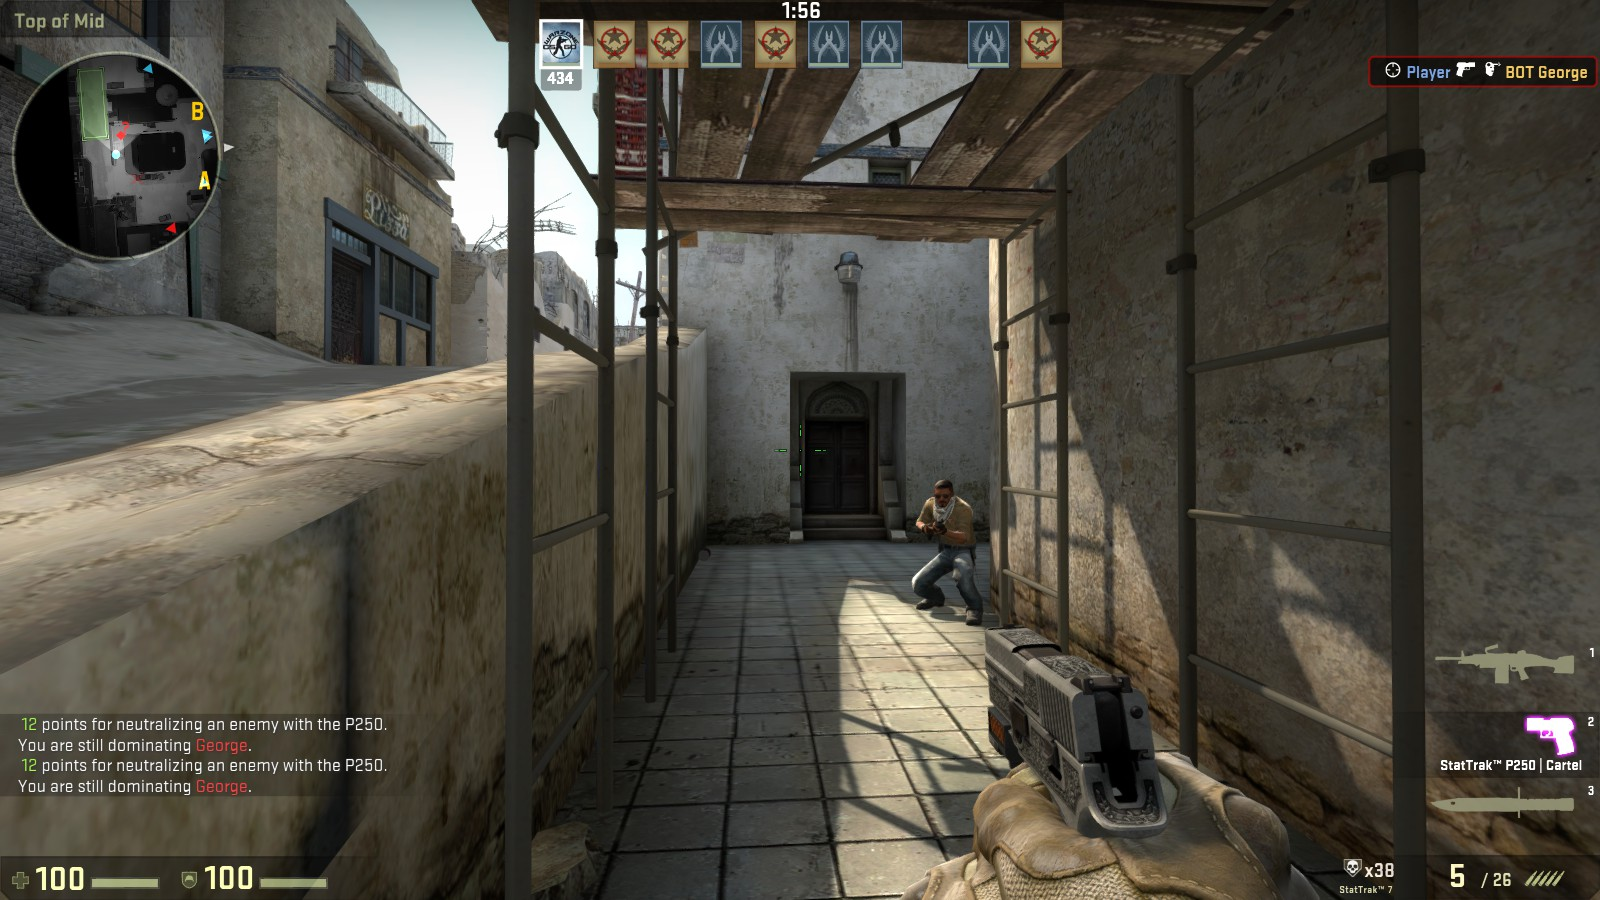t: (912, 475, 985, 620)
th: (931, 478, 955, 510)
